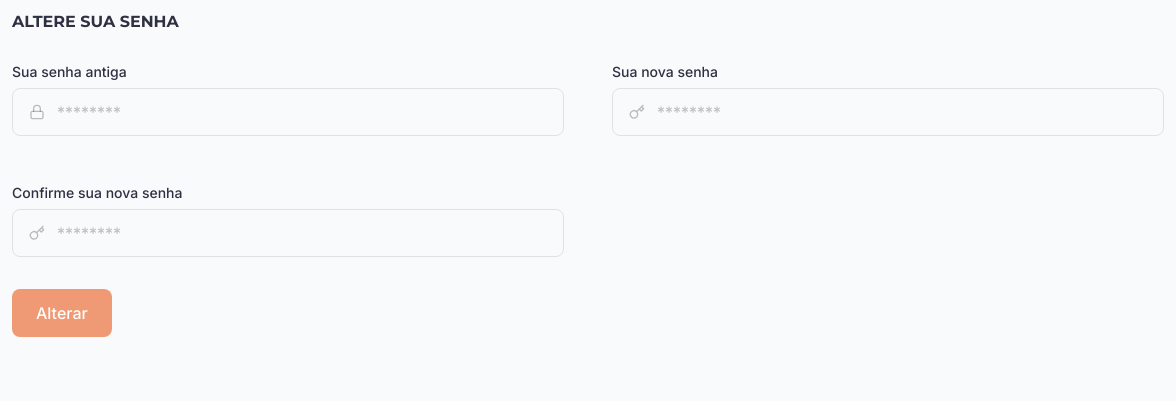
shows validation error when submit is clicked and new password has not the minimum of characters
Type "old-password" into the password field labelled "Sua senha antiga" at [310, 112], box [57,89,563,135]
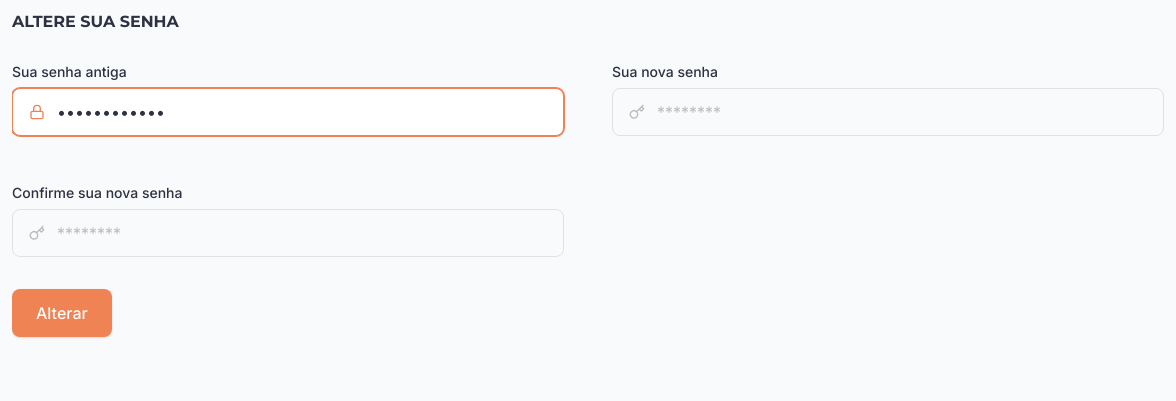
Type "12345" into the password field labelled "Sua nova senha" at [910, 112], box [657,89,1163,135]
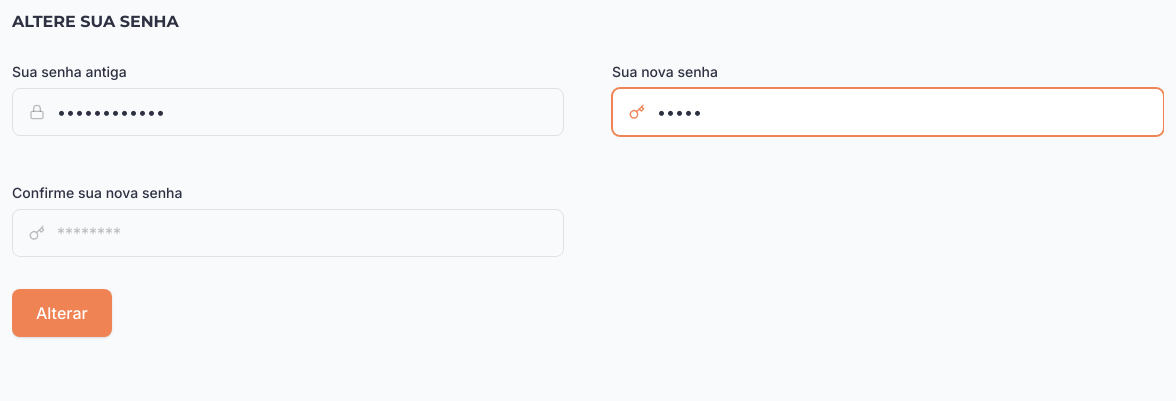
Click the button "Alterar" at [62, 313], box [12,289,112,337]
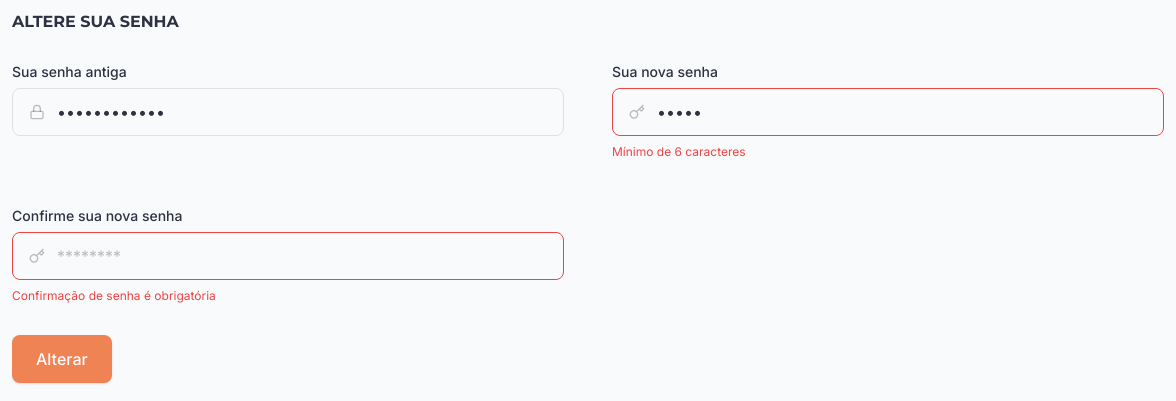
Result: the text "Mínimo de 6 caracteres" is shown at [612,144,746,159]
